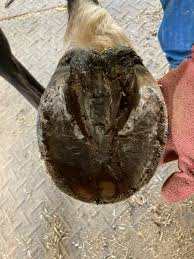horsesole: (36, 63, 168, 205)
